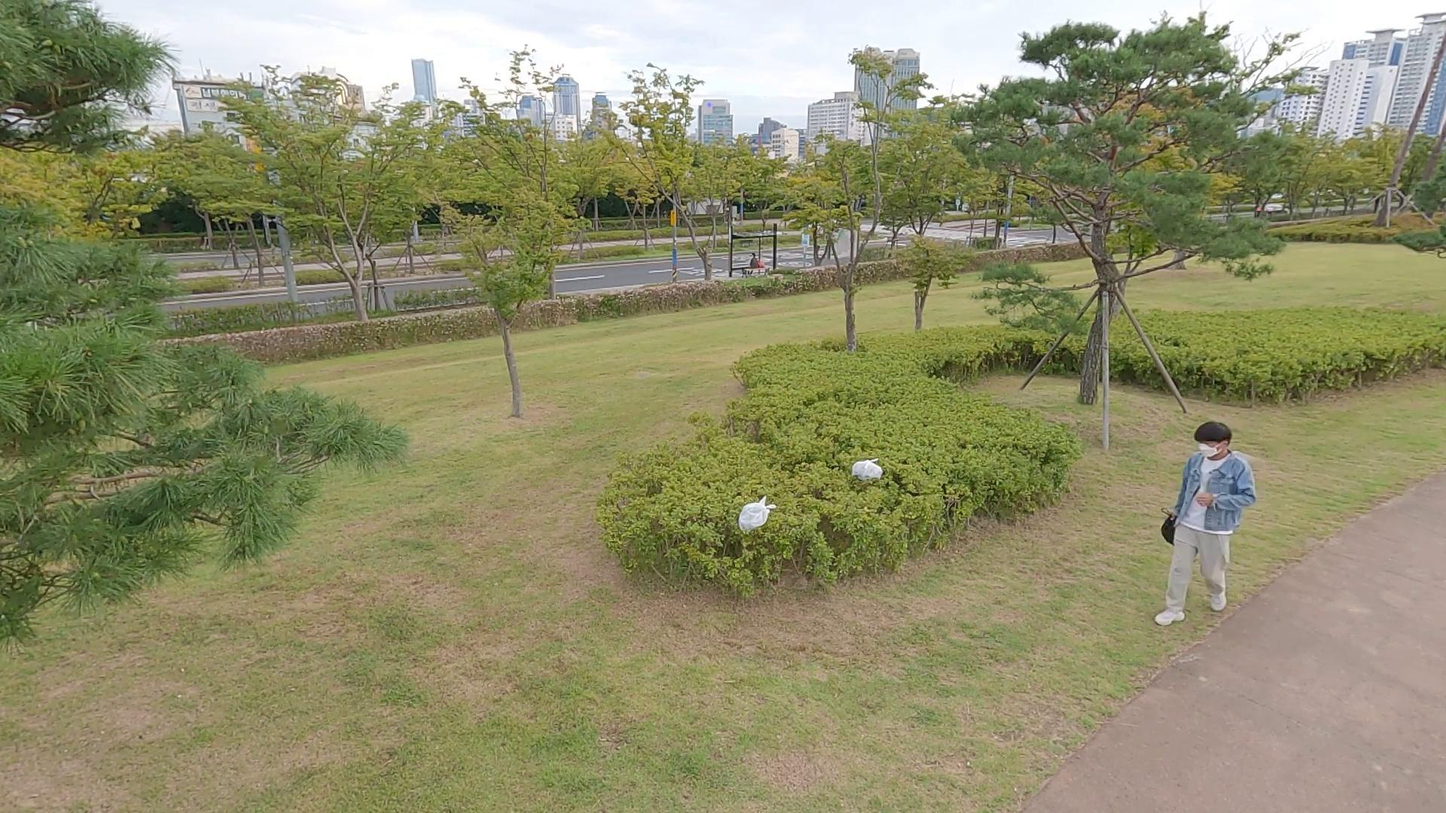person: (1155, 420, 1257, 628)
trash: (738, 496, 775, 529), (851, 455, 884, 482), (1160, 511, 1184, 547)
